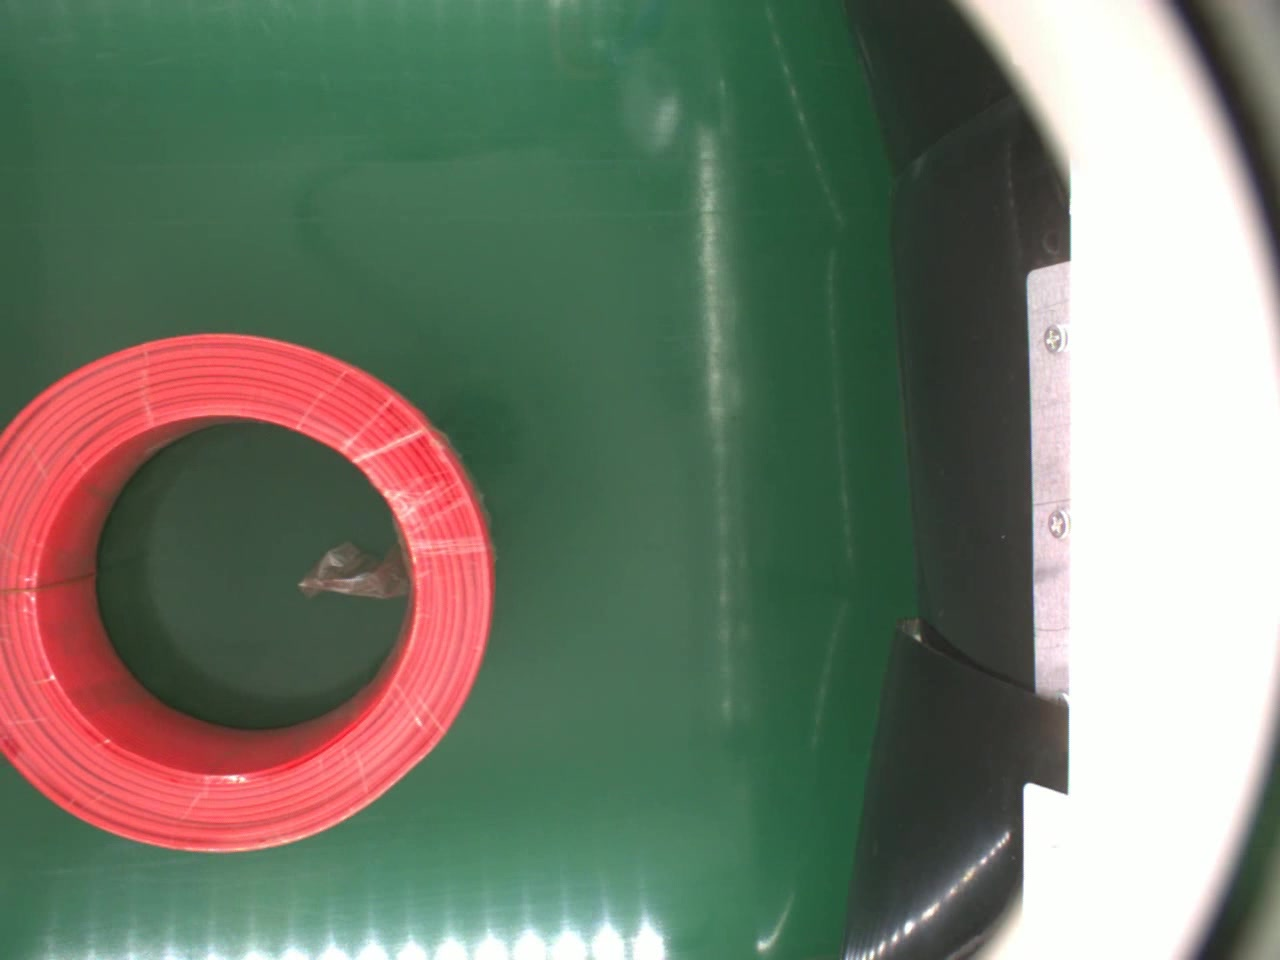red: (0, 328, 496, 850)
